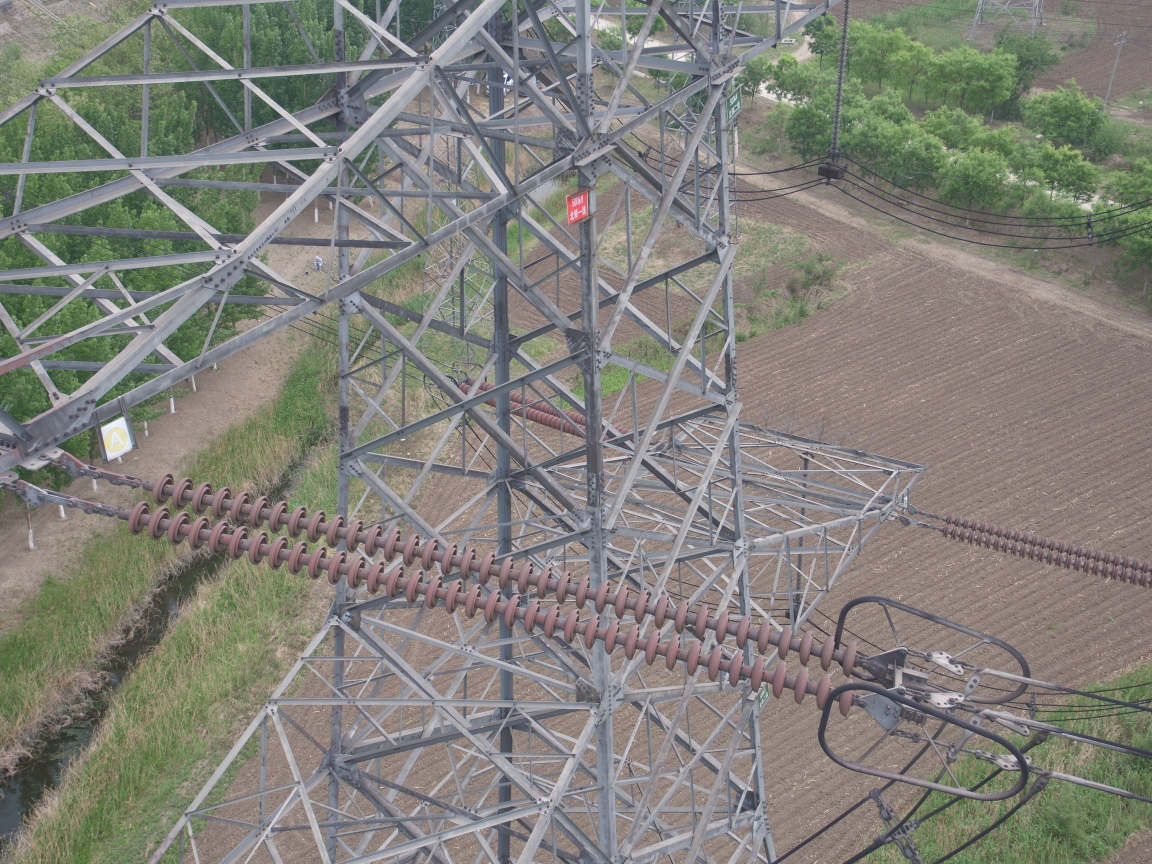insulator: (85, 470, 885, 721), (939, 512, 1152, 590)
